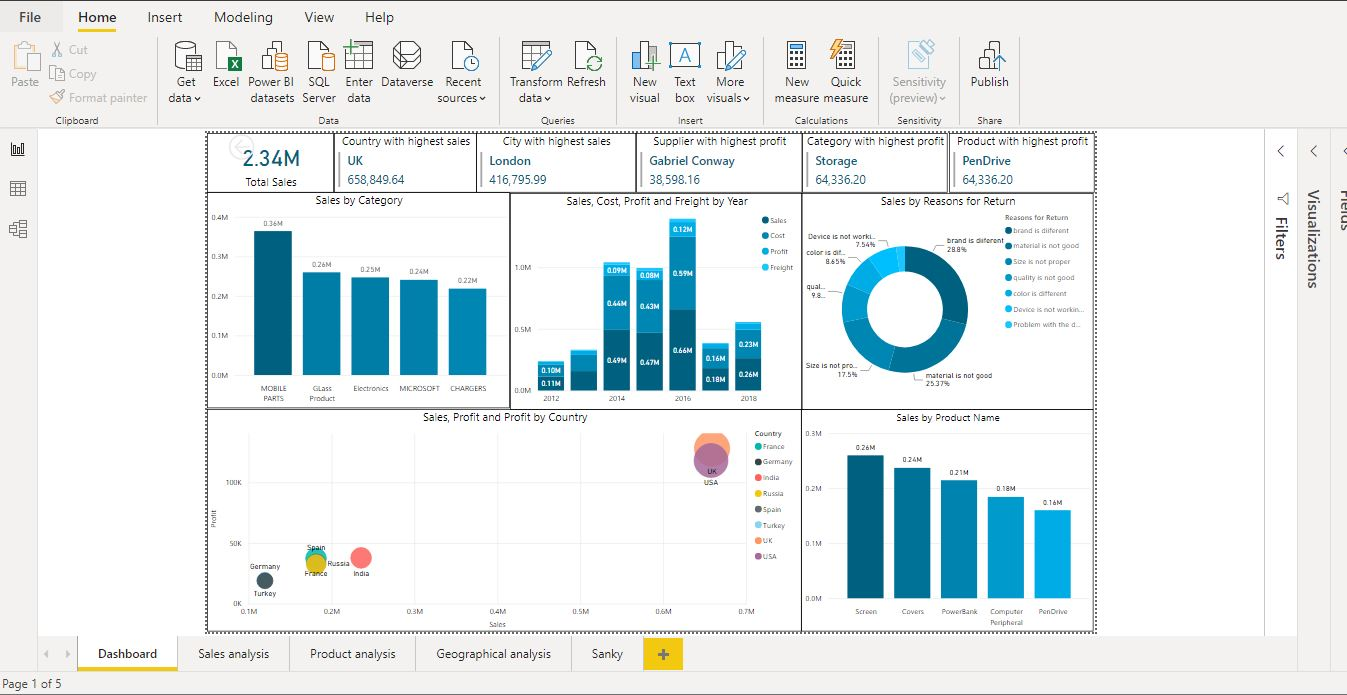

The page's visual inventory and layout, read from the dashboard file:
{"tool":"powerbi","page":{"name":"Dashboard","canvas":[1280,720],"ordinal":0},"visuals":[{"type":"columnChart","fields":{"Category":["Sheet1.Category"],"Y":["Sheet1.Sales"]},"box":[0,85.7,436.7,312.4],"z":0},{"type":"columnChart","fields":{"Category":["Sheet1.Product Name"],"Y":["Sheet1.Sales"]},"box":[857.7,398.9,422.3,321.5],"z":1000},{"type":"card","fields":{"Values":["Sheet1.Sales"]},"box":[0,0,182.6,86.2],"z":2000},{"type":"multiRowCard","title":"Country with highest sales","fields":{"Values":["Sheet1.Country","Sheet1.Sales"]},"box":[182.6,0,206,86.2],"z":3000},{"type":"multiRowCard","title":"Supplier with highest profit","fields":{"Values":["Sheet1.Supplier Name","Sheet1.Profit"]},"box":[619.5,0,239.6,86.2],"z":4000},{"type":"columnChart","fields":{"Category":["Sheet1.Year"],"Y":["Sheet1.Sales","Sheet1.Cost","Sheet1.Profit","Sheet1.Freight"]},"box":[436.9,86.2,422.3,312.7],"z":5000},{"type":"donutChart","fields":{"Category":["Sheet1.Reasons for Return"],"Y":["Sheet1.Sales"]},"box":[857.7,86.2,422.3,312.7],"z":6000},{"type":"multiRowCard","title":"Category with highest profit","fields":{"Values":["Sheet1.Category","Sheet1.Profit"]},"box":[859.2,0,210.4,86.2],"z":7000},{"type":"multiRowCard","title":"Product with highest profit","fields":{"Values":["Sheet1.Product Name","Sheet1.Profit"]},"box":[1070,0,210,85.7],"z":8000},{"type":"multiRowCard","title":"City with highest sales","fields":{"Values":["Sheet1.City","Sheet1.Sales"]},"box":[388.7,0,230.9,86.2],"z":9000},{"type":"basicShape","box":[0,0,100,40],"z":11000},{"type":"scatterChart","fields":{"Y":["Sheet1.Profit"],"Series":["Sheet1.Country"],"X":["Sheet1.Sales"],"Size":["Sheet1.Profit"]},"box":[0,398.1,858.4,320.8],"z":12000}]}

Visuals, with their boxes on the page's 1280x720 design canvas (x1, y1, x2, y2). These are canvas units, not pixel positions in the 1347x695 screenshot, which may show the page scaled, cropped or inside an application window:
columnChart - Sheet1.Category x Sheet1.Sales: bbox(0, 86, 437, 398)
columnChart - Sheet1.Product Name x Sheet1.Sales: bbox(858, 399, 1280, 720)
card - Sheet1.Sales: bbox(0, 0, 183, 86)
"Country with highest sales" multiRowCard: bbox(183, 0, 389, 86)
"Supplier with highest profit" multiRowCard: bbox(620, 0, 859, 86)
columnChart - Sheet1.Year x Sheet1.Sales: bbox(437, 86, 859, 399)
donutChart - Sheet1.Reasons for Return x Sheet1.Sales: bbox(858, 86, 1280, 399)
"Category with highest profit" multiRowCard: bbox(859, 0, 1070, 86)
"Product with highest profit" multiRowCard: bbox(1070, 0, 1280, 86)
"City with highest sales" multiRowCard: bbox(389, 0, 620, 86)
basicShape: bbox(0, 0, 100, 40)
scatterChart - Sheet1.Profit x Sheet1.Country: bbox(0, 398, 858, 719)
